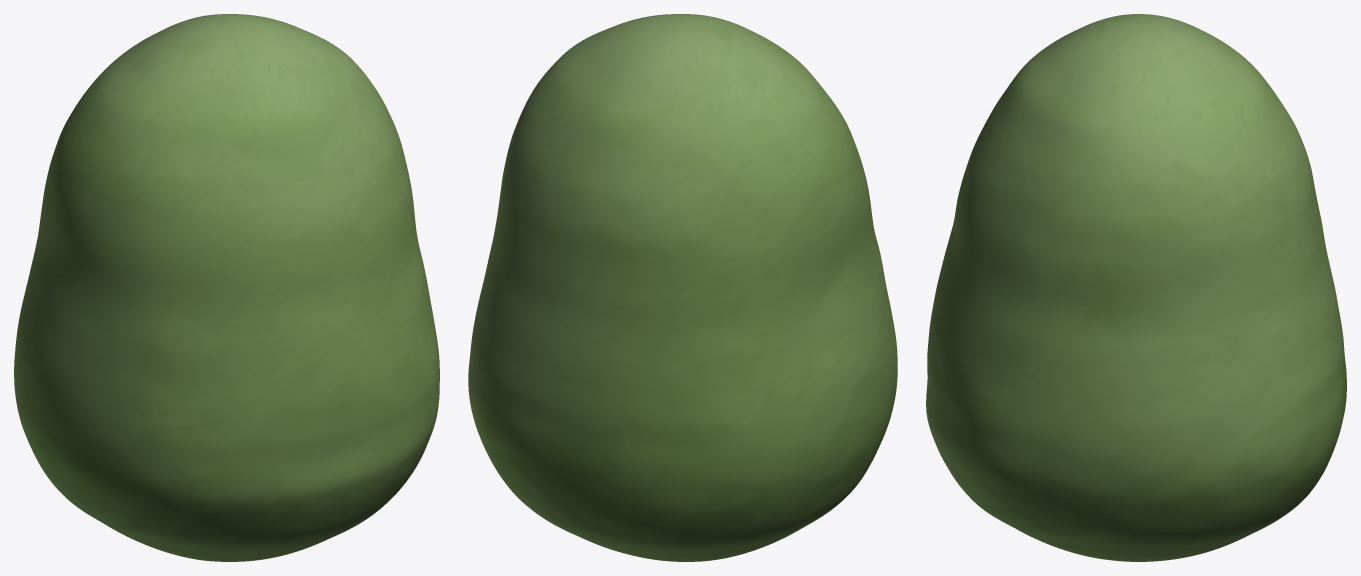
File: pear.glb
3 renders of one model, left to right at view 1: azimuth 30°, elevation 25°; view 2: azimuth 150°, elevation 25°; view 3: azimuth 270°, elevation 25°, orthographic.
Size of the model in its own units: 1.16 by 1.57 by 1.16.
